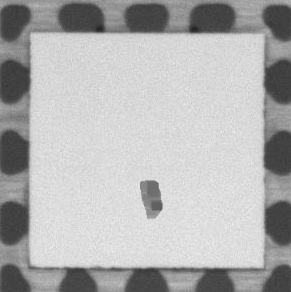DIE_INK: (136, 174, 164, 223)
